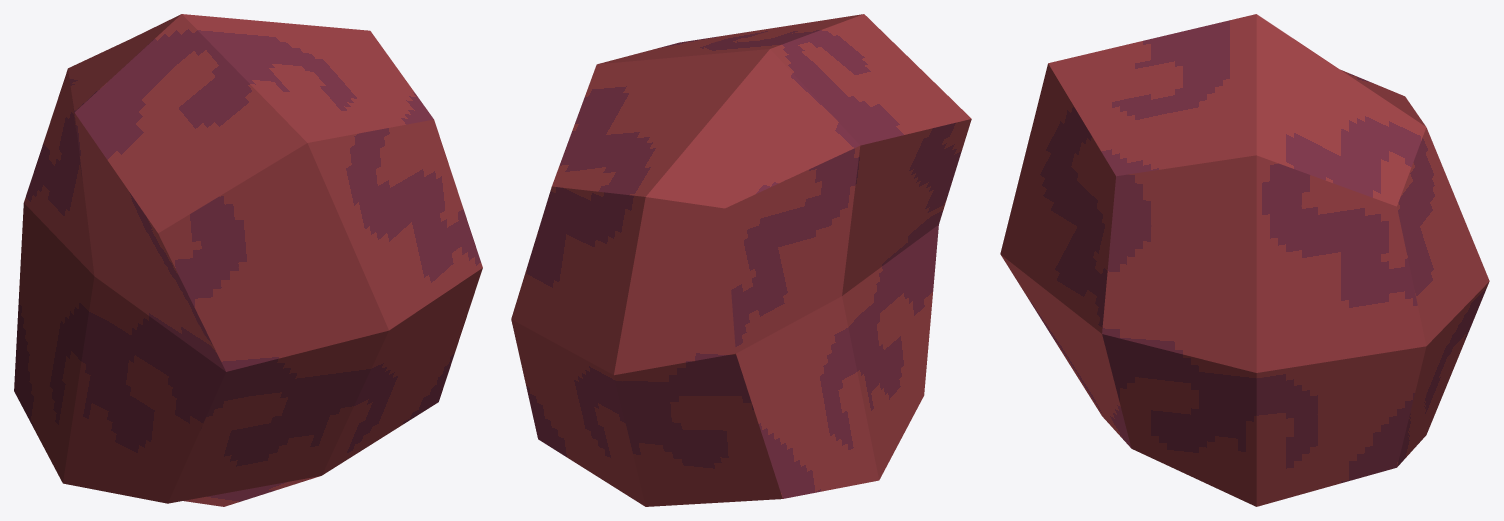
File: gib_a.glb
3 views of the same model, side by side, from view 1: azimuth 30°, elevation 25°; view 2: azimuth 150°, elevation 25°; view 3: azimuth 270°, elevation 25° (orthographic). The views are drawn at different scales.
Parts seen in each view (by area): view 1: Cube.182; view 2: Cube.182; view 3: Cube.182.
Boxes of the visible parts, box(x1,y1,x2,y2) form: Cube.182: box(14, 14, 482, 506); Cube.182: box(511, 14, 971, 506); Cube.182: box(1000, 14, 1489, 506).
Size of the model in its own units: 2.3 by 2.98 by 2.88.
Materials: 1 (1 with a texture image).
